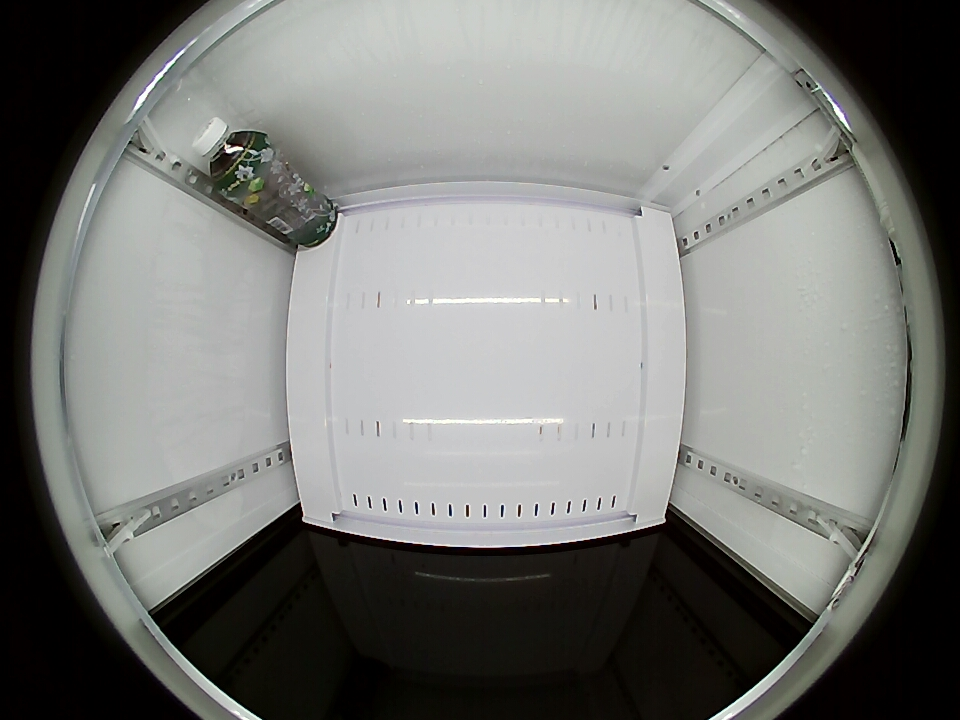moliqingcha: (192, 119, 270, 193)
